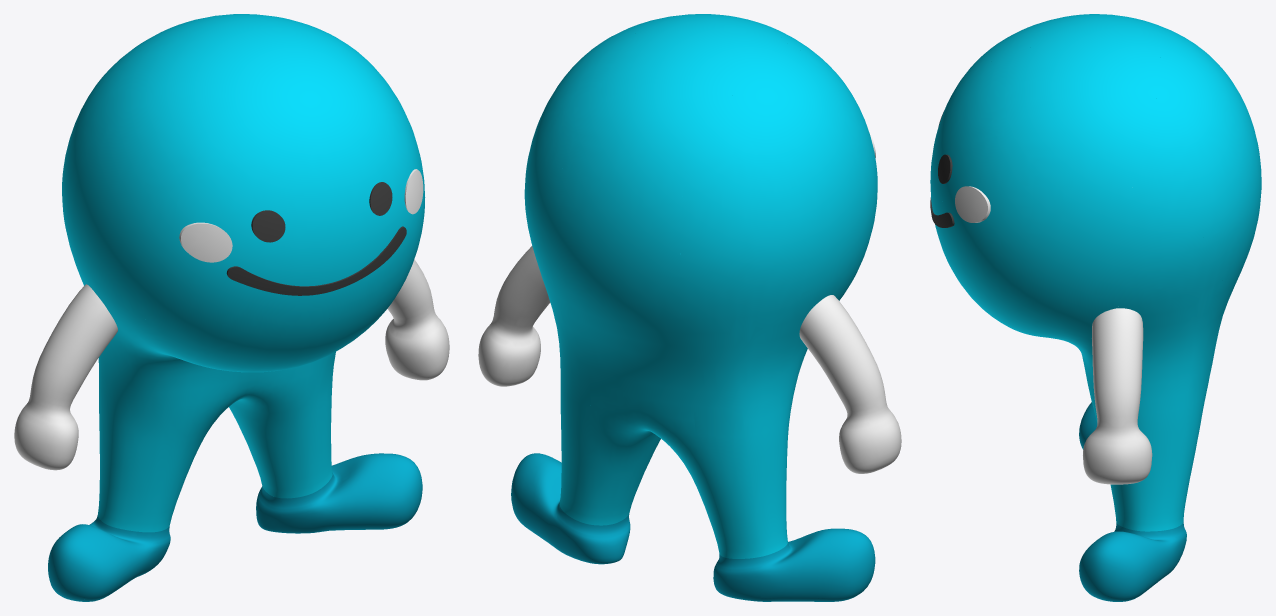
3 views of the same model, side by side, from view 1: azimuth 30°, elevation 25°; view 2: azimuth 150°, elevation 25°; view 3: azimuth 270°, elevation 25° (orthographic). The views are drawn at different scales.
Parts seen in each view (by area): view 1: 046_Kuroshiokun; view 2: 046_Kuroshiokun; view 3: 046_Kuroshiokun.
Boxes of the visible parts, bbox=[...] form: 046_Kuroshiokun: bbox=[14, 14, 449, 601]; 046_Kuroshiokun: bbox=[478, 14, 901, 601]; 046_Kuroshiokun: bbox=[930, 14, 1261, 601].
Size of the model in its own units: 0.1683 by 0.2009 by 0.1218.
